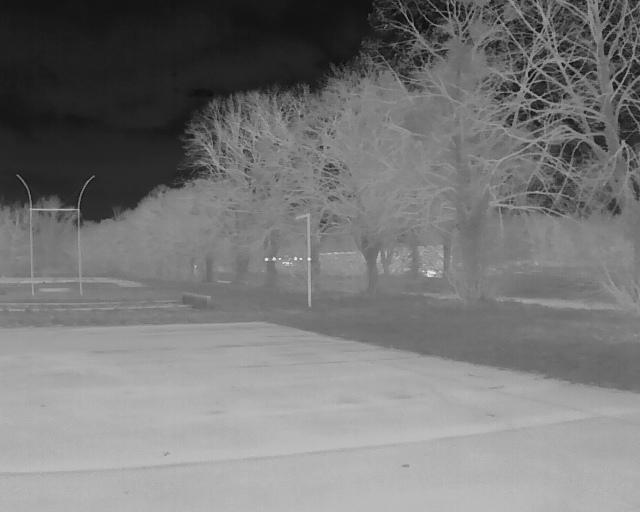drone: (253, 244, 321, 288)
